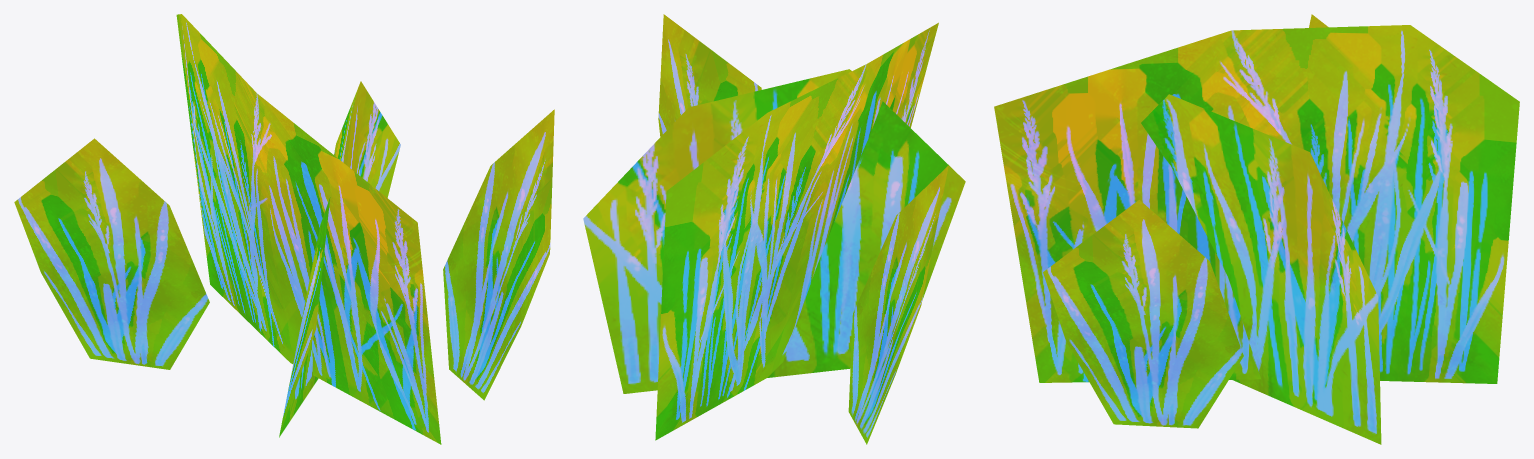
Rendered from SM_Alpha_grass1_WA.fbx.
The picture shows the model from 3 angles, left to right: view 1: azimuth 30°, elevation 25°; view 2: azimuth 150°, elevation 25°; view 3: azimuth 270°, elevation 25°; orthographic projection. The views are drawn at different scales.
Visible parts, largest first — view 1: SM_Alpha_grass1_WA_LOD0; view 2: SM_Alpha_grass1_WA_LOD0; view 3: SM_Alpha_grass1_WA_LOD0.
Boxes of the visible parts, x1=… form: SM_Alpha_grass1_WA_LOD0: x1=14, y1=14, x2=554, y2=444; SM_Alpha_grass1_WA_LOD0: x1=583, y1=14, x2=965, y2=444; SM_Alpha_grass1_WA_LOD0: x1=994, y1=14, x2=1519, y2=444.
Bounding box in the file's own units: 48.25 × 54.01 × 38.6.
